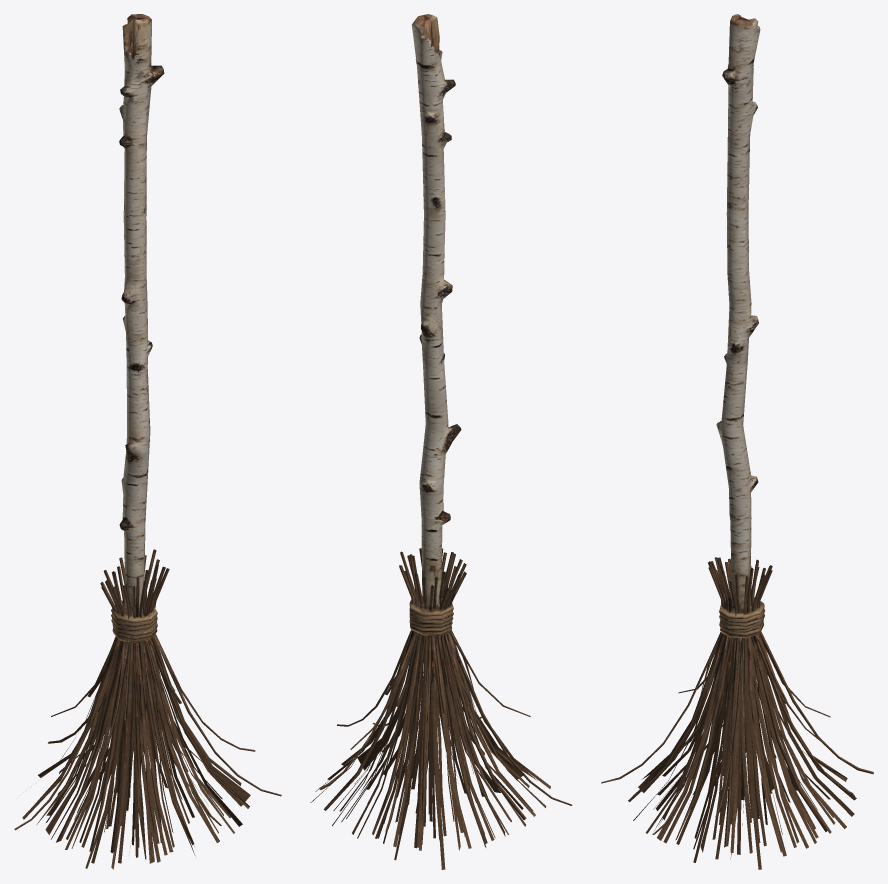
File: broom.glb
3 renders of one model, left to right at view 1: azimuth 30°, elevation 25°; view 2: azimuth 150°, elevation 25°; view 3: azimuth 270°, elevation 25°, orthographic.
Parts seen in each view (by area): view 1: Broom; view 2: Broom; view 3: Broom.
Part boxes in pixels (x1,y1,x2,y2): Broom: (14, 14, 281, 869); Broom: (310, 14, 572, 869); Broom: (601, 14, 873, 869).
Bounding box in the file's own units: 0.5046 × 1.66 × 0.4985.
Materials: 1 (1 with a texture image).
